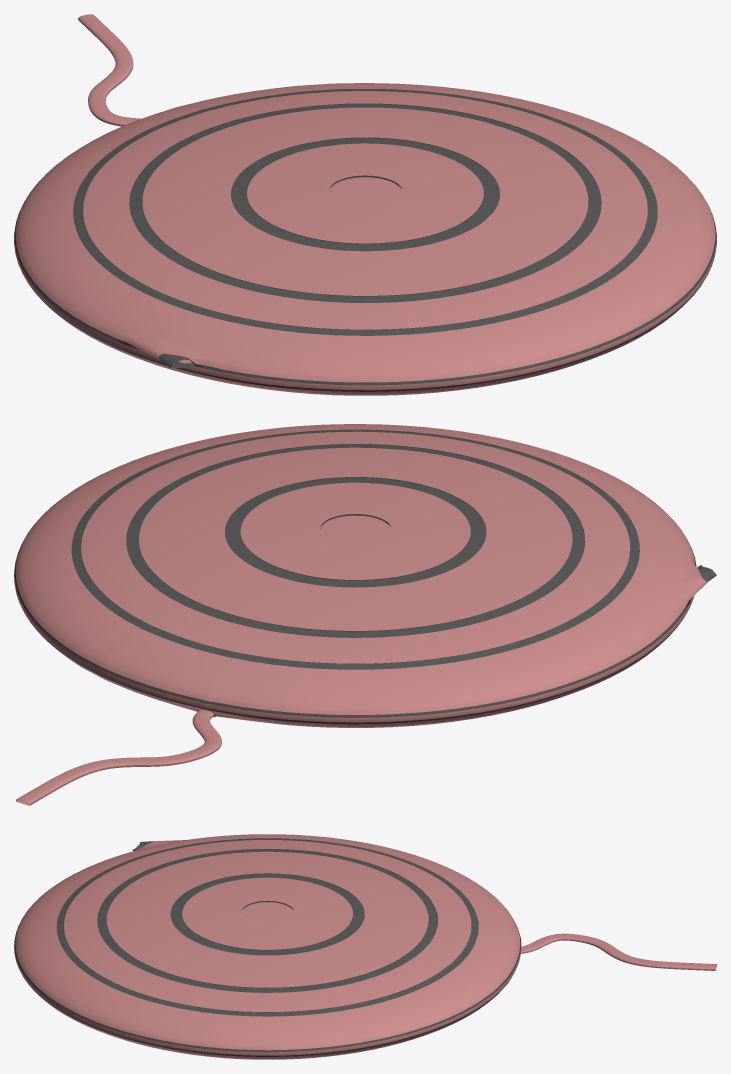
File: future2_track4.fbx
3 views of the same model, one above another, from view 1: azimuth 30°, elevation 25°; view 2: azimuth 150°, elevation 25°; view 3: azimuth 270°, elevation 25° (orthographic). The views are drawn at different scales.
Visible parts, largest first — view 1: future2_track4; view 2: future2_track4; view 3: future2_track4.
Boxes of the visible parts, box(x1,y1,x2,y2) form: future2_track4: box(14, 14, 716, 395); future2_track4: box(14, 424, 716, 805); future2_track4: box(14, 834, 716, 1059).
Size of the model in its own units: 2713 by 307 by 3760.
